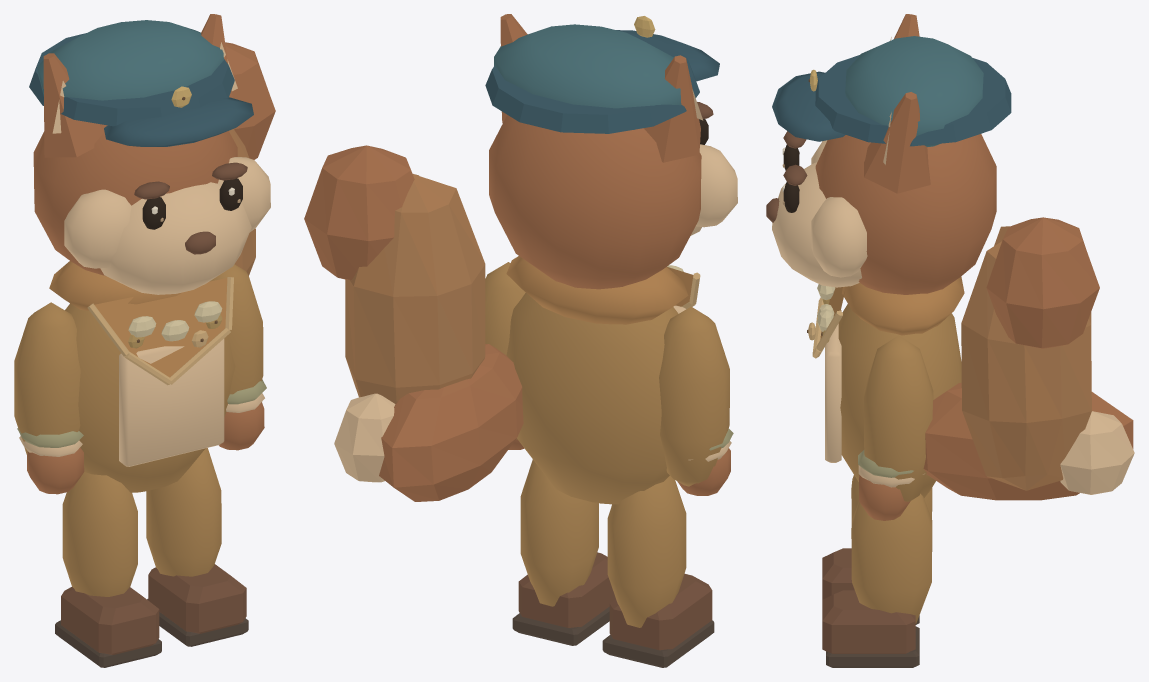
Rendered from npc_fiete.glb.
3 views of the same model, side by side, from view 1: azimuth 30°, elevation 25°; view 2: azimuth 150°, elevation 25°; view 3: azimuth 270°, elevation 25° (orthographic). The views are drawn at different scales.
Visible parts, largest first — view 1: npc_fiete, npc_fiete_leg_l, npc_fiete_leg_r, npc_fiete_arm_l, npc_fiete_arm_r, npc_fiete_r_eye, npc_fiete_l_eye; view 2: npc_fiete, npc_fiete_leg_l, npc_fiete_leg_r, npc_fiete_arm_l, npc_fiete_arm_r; view 3: npc_fiete, npc_fiete_leg_r, npc_fiete_arm_r, npc_fiete_leg_l.
Boxes of the visible parts, box(x1,y1,x2,y2) form: npc_fiete: box(29, 14, 275, 492); npc_fiete_leg_l: box(55, 472, 161, 667); npc_fiete_leg_r: box(146, 448, 248, 646); npc_fiete_arm_l: box(14, 302, 84, 494); npc_fiete_arm_r: box(209, 264, 266, 450); npc_fiete_r_eye: box(219, 178, 242, 210); npc_fiete_l_eye: box(142, 197, 165, 229); npc_fiete: box(304, 14, 737, 504); npc_fiete_leg_l: box(602, 476, 714, 667); npc_fiete_leg_r: box(512, 459, 615, 645); npc_fiete_arm_l: box(659, 306, 733, 495); npc_fiete_arm_r: box(485, 262, 525, 449); npc_fiete: box(766, 14, 1134, 500); npc_fiete_leg_r: box(822, 493, 932, 667); npc_fiete_arm_r: box(858, 335, 933, 520); npc_fiete_leg_l: box(822, 475, 932, 624).
Size of the model in its own units: 0.885 by 1.53 by 0.8817.
